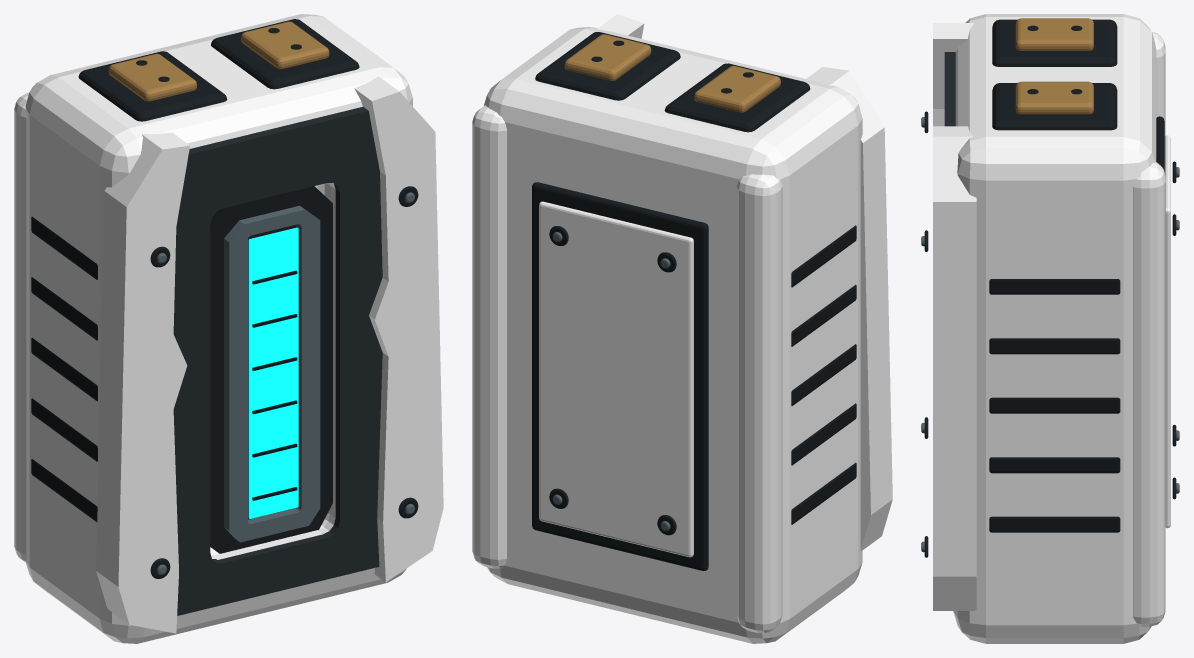
File: laser_cell.glb
3 views of the same model, side by side, from view 1: azimuth 30°, elevation 25°; view 2: azimuth 150°, elevation 25°; view 3: azimuth 270°, elevation 25° (orthographic). The views are drawn at different scales.
Visible parts, largest first — view 1: CellTitaniumCrashRail, CellPressureBody, CellFrontArmor, CellIndicatorBezel, CellCyanStateWindow, CellIndicatorRecess, CellTerminalPocket.001, CellRearEdge.001, CellPowerContact.001, CellSideCoolingSlot.007, CellSideCoolingSlot.008, CellSideCoolingSlot.006 (+2 smaller); view 2: CellPressureBody, CellRearServicePanel, CellRearEdge.001, CellTitaniumCrashRail, CellRearSeal, CellTerminalPocket.001, CellPowerContact.001, CellSideCoolingSlot.005, CellSideCoolingSlot.007, CellSideCoolingSlot.009, CellSideCoolingSlot.006, CellSideCoolingSlot.008; view 3: CellPressureBody, CellTitaniumCrashRail, CellRearEdge.001, CellTerminalPocket.001, CellPowerContact.001, CellRearServicePanel, CellSideCoolingSlot.005, CellSideCoolingSlot.008, CellSideCoolingSlot.006, CellSideCoolingSlot.007, CellSideCoolingSlot.009, CellFrontArmor (+1 smaller).
Boxes of the visible parts, x1=… form: CellTitaniumCrashRail: x1=96, y1=76, x2=443, y2=633; CellPressureBody: x1=25, y1=14, x2=412, y2=643; CellFrontArmor: x1=173, y1=107, x2=382, y2=615; CellIndicatorBezel: x1=224, y1=205, x2=320, y2=542; CellCyanStateWindow: x1=248, y1=227, x2=298, y2=518; CellIndicatorRecess: x1=210, y1=186, x2=332, y2=553; CellTerminalPocket.001: x1=78, y1=19, x2=359, y2=121; CellRearEdge.001: x1=14, y1=92, x2=28, y2=562; CellPowerContact.001: x1=108, y1=21, x2=329, y2=101; CellSideCoolingSlot.007: x1=31, y1=338, x2=97, y2=401; CellSideCoolingSlot.008: x1=31, y1=277, x2=97, y2=340; CellSideCoolingSlot.006: x1=31, y1=398, x2=97, y2=461; CellPressureBody: x1=484, y1=27, x2=862, y2=643; CellRearServicePanel: x1=539, y1=201, x2=693, y2=557; CellRearEdge.001: x1=472, y1=105, x2=782, y2=633; CellTitaniumCrashRail: x1=597, y1=14, x2=892, y2=550; CellRearSeal: x1=532, y1=182, x2=708, y2=570; CellTerminalPocket.001: x1=535, y1=32, x2=810, y2=132; CellPowerContact.001: x1=564, y1=34, x2=780, y2=112; CellSideCoolingSlot.005: x1=791, y1=462, x2=856, y2=524; CellSideCoolingSlot.007: x1=791, y1=344, x2=856, y2=405; CellSideCoolingSlot.009: x1=791, y1=225, x2=856, y2=287; CellSideCoolingSlot.006: x1=791, y1=403, x2=856, y2=465; CellSideCoolingSlot.008: x1=791, y1=284, x2=856, y2=346; CellPressureBody: x1=953, y1=14, x2=1156, y2=643; CellTitaniumCrashRail: x1=933, y1=23, x2=976, y2=610; CellRearEdge.001: x1=1133, y1=32, x2=1165, y2=626; CellTerminalPocket.001: x1=992, y1=19, x2=1117, y2=130; CellPowerContact.001: x1=1015, y1=18, x2=1093, y2=114; CellRearServicePanel: x1=1164, y1=135, x2=1170, y2=528; CellSideCoolingSlot.005: x1=989, y1=516, x2=1120, y2=532; CellSideCoolingSlot.008: x1=989, y1=338, x2=1120, y2=354; CellSideCoolingSlot.006: x1=989, y1=457, x2=1120, y2=473; CellSideCoolingSlot.007: x1=989, y1=397, x2=1120, y2=413; CellSideCoolingSlot.009: x1=989, y1=279, x2=1120, y2=294; CellFrontArmor: x1=944, y1=52, x2=955, y2=126.
Bounding box in the file's own units: 1.18 × 1.84 × 0.827.
